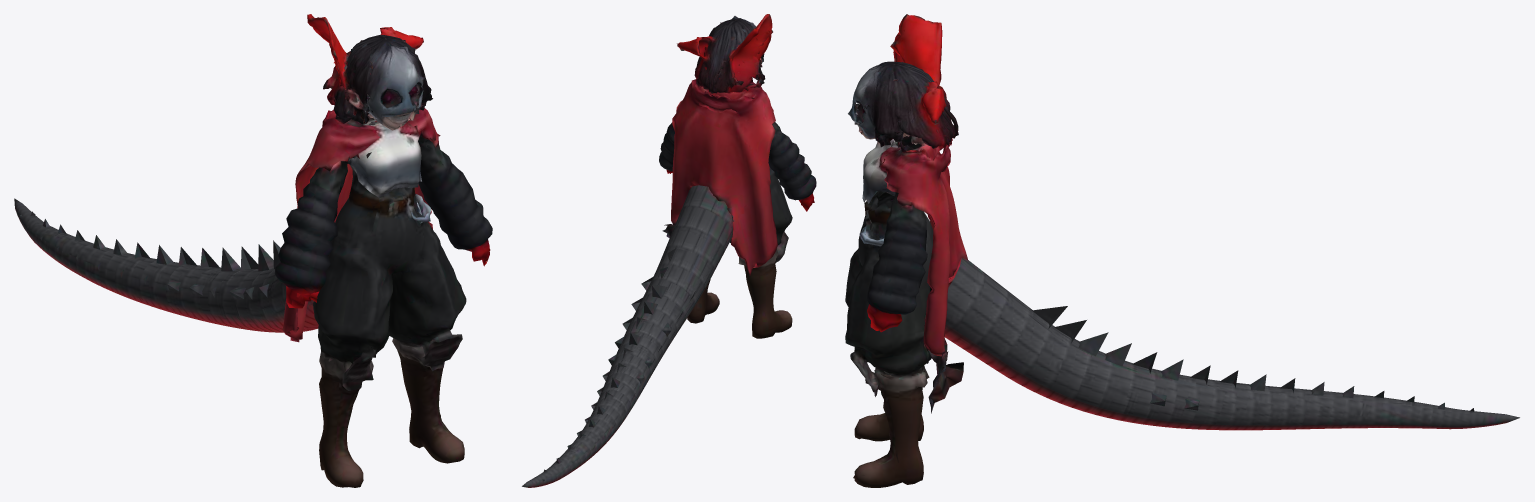
File: jefrie-v2.glb
3 renders of one model, left to right at view 1: azimuth 30°, elevation 25°; view 2: azimuth 150°, elevation 25°; view 3: azimuth 270°, elevation 25°, orthographic. The views are drawn at different scales.
Parts seen in each view (by area): view 1: LOW; view 2: LOW; view 3: LOW.
Boxes of the visible parts, x1=… form: LOW: x1=14, y1=14, x2=492, y2=487; LOW: x1=522, y1=14, x2=816, y2=487; LOW: x1=845, y1=14, x2=1519, y2=487.
Bounding box in the file's own units: 0.4879 × 1 × 1.46.
Materials: 1 (1 with a texture image).
